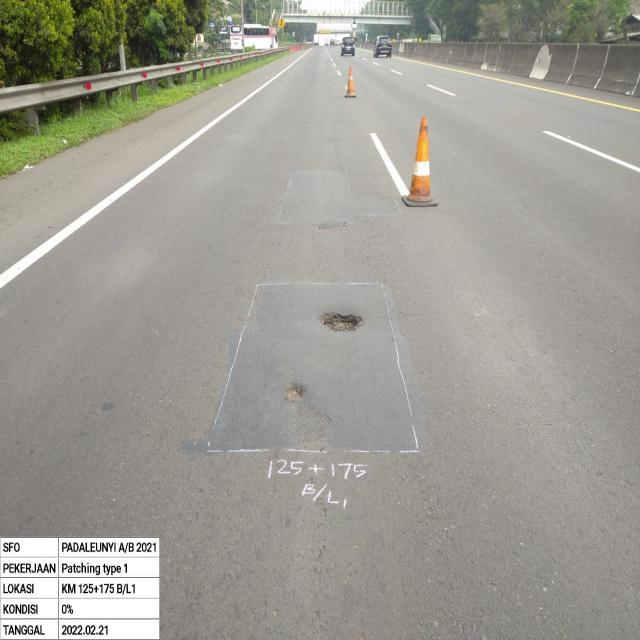Buraco: (315, 310, 368, 334), (282, 381, 308, 405)
